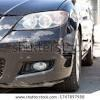front-bumper-dent: (0, 24, 78, 84)
